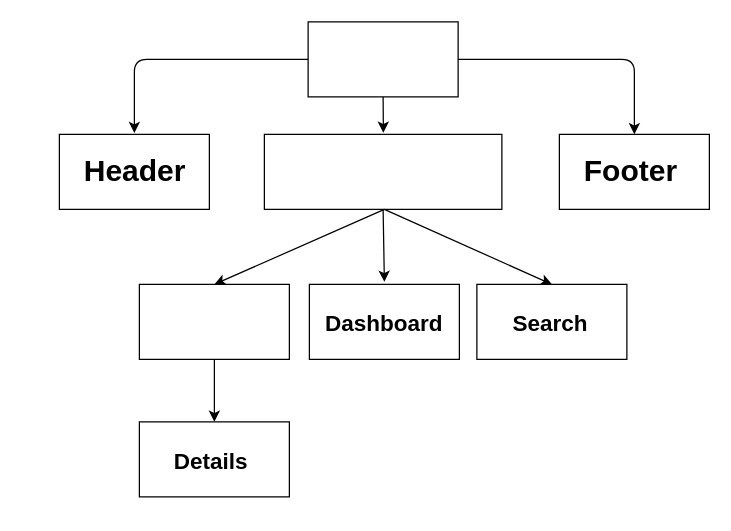
This 731x531 diagram has some shape labels left out. The box of each missing label's shape, as (x1, y1, x2, y2) in pixels:
App: (307, 21, 458, 97)
Applications: (138, 283, 289, 359)
PageControl: (263, 133, 502, 209)
